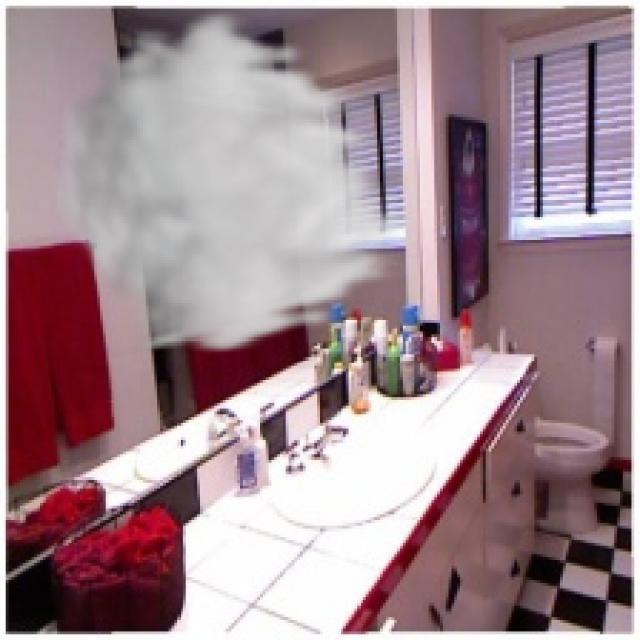Smoke: (46, 6, 423, 357)
